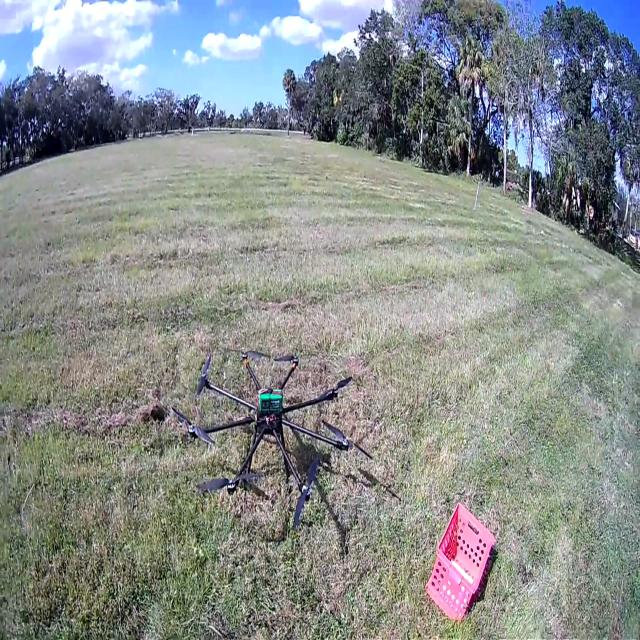drone: (152, 328, 370, 584)
